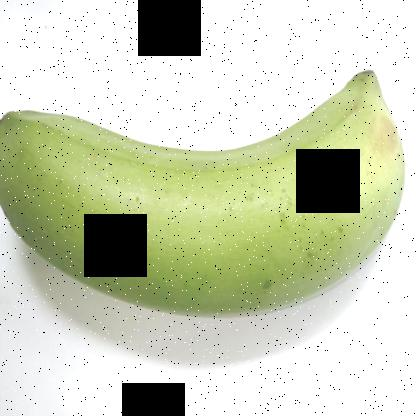freshunripe: (0, 59, 407, 341)
